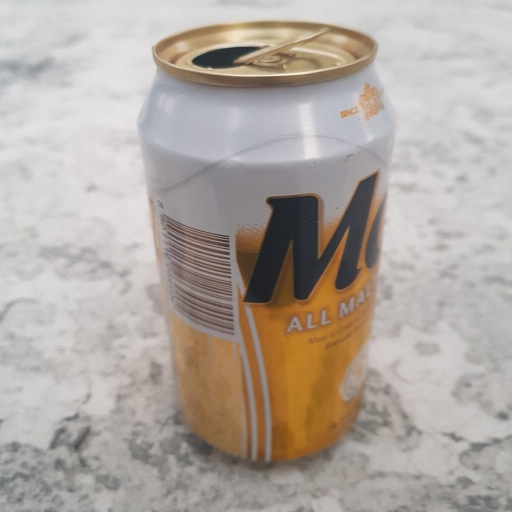Metal_0: (138, 20, 396, 469)
